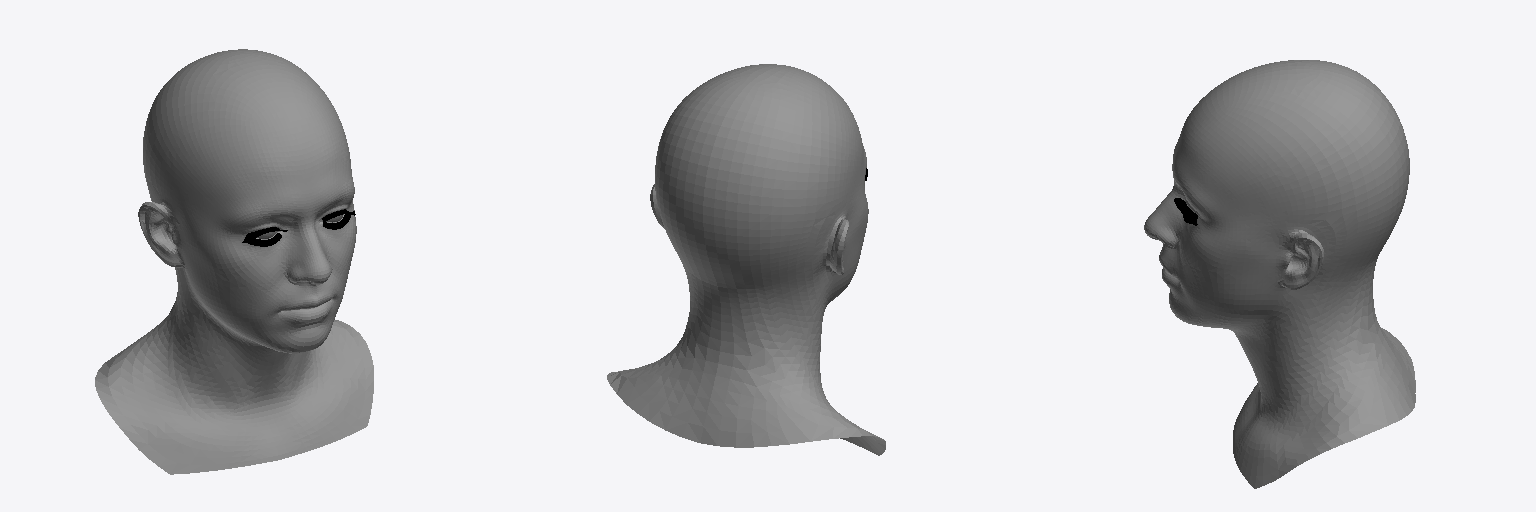
Rendered from identity070.obj.
The picture shows the model from 3 angles: view 1: azimuth 30°, elevation 25°; view 2: azimuth 150°, elevation 25°; view 3: azimuth 270°, elevation 25°; orthographic projection.
Size of the model in its own units: 24.82 by 33.8 by 22.26.